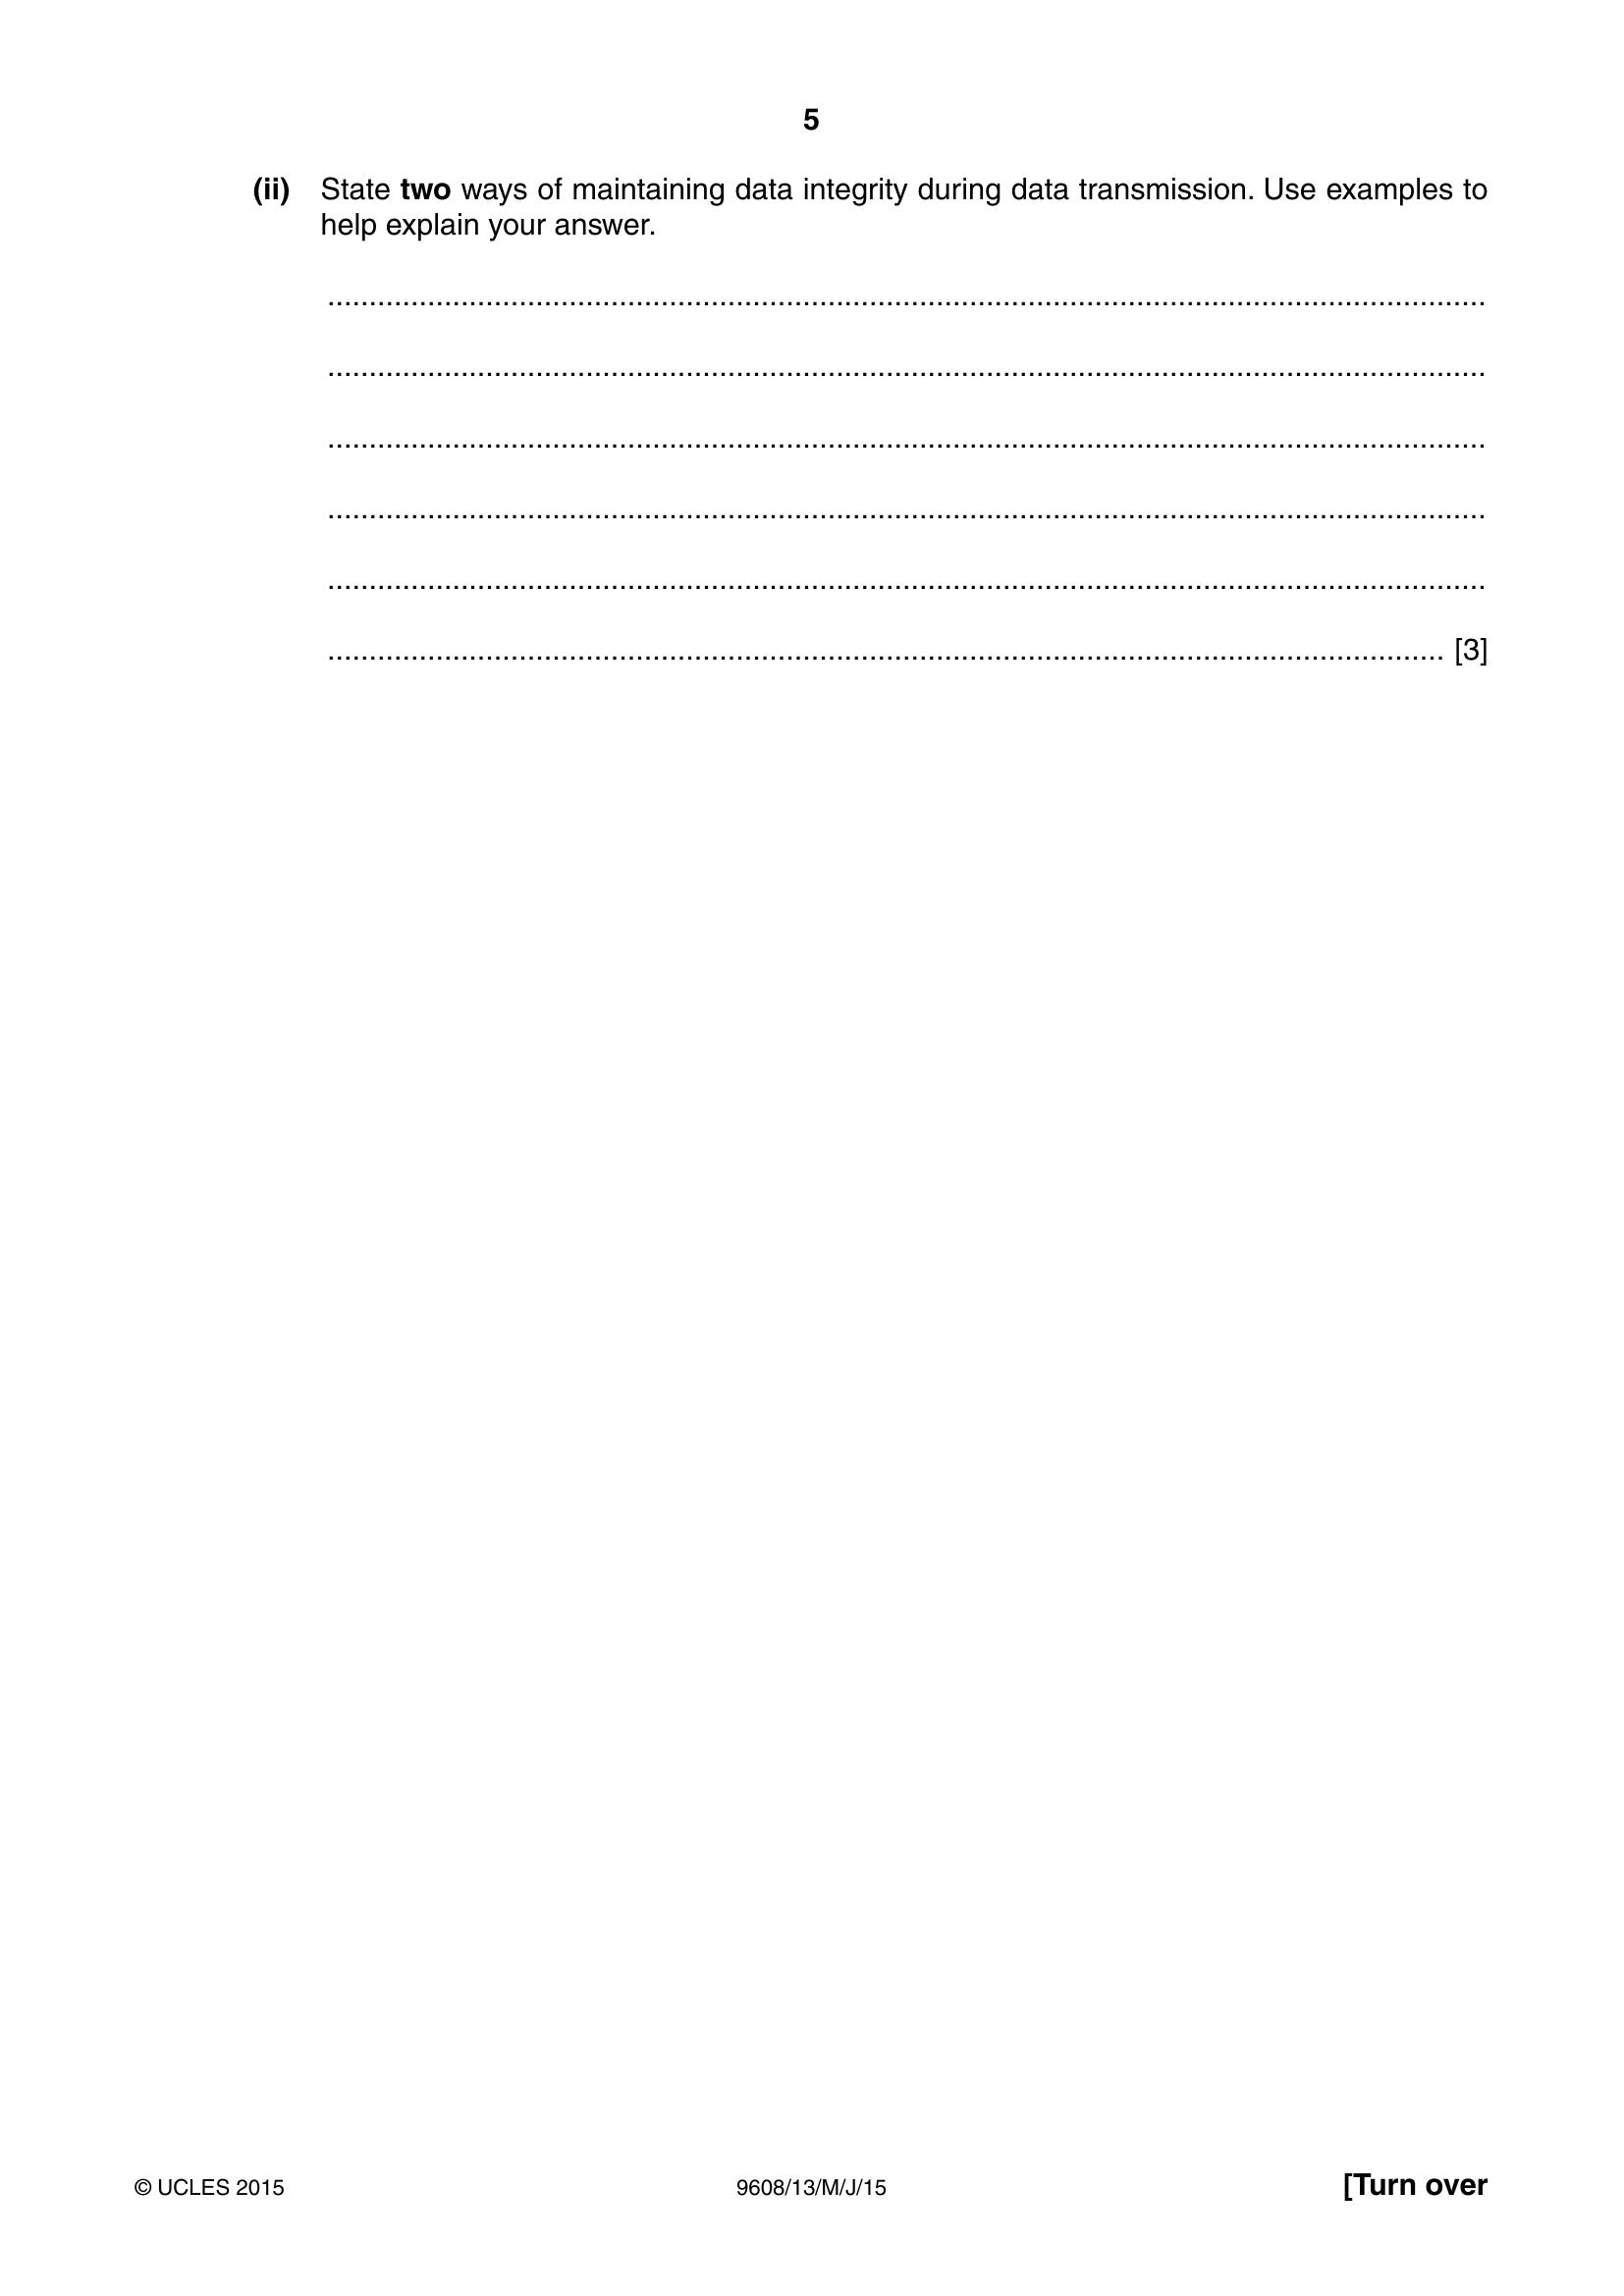continued question: (4, 144, 1624, 736)
